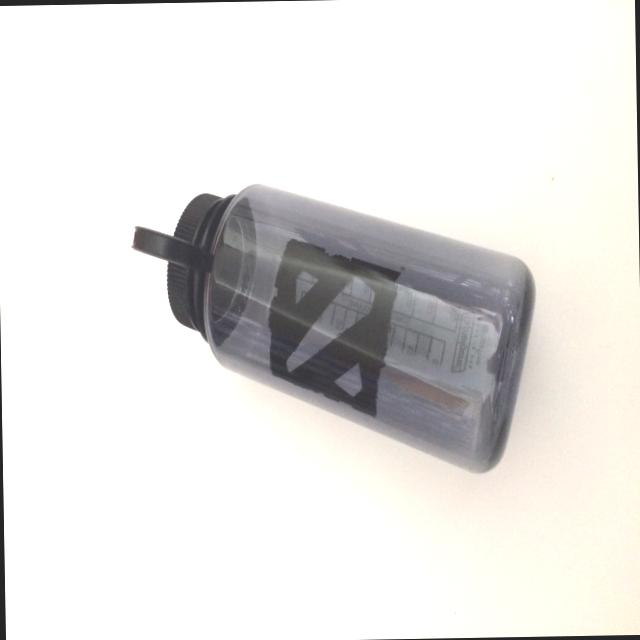Plastic: (112, 175, 547, 492)
